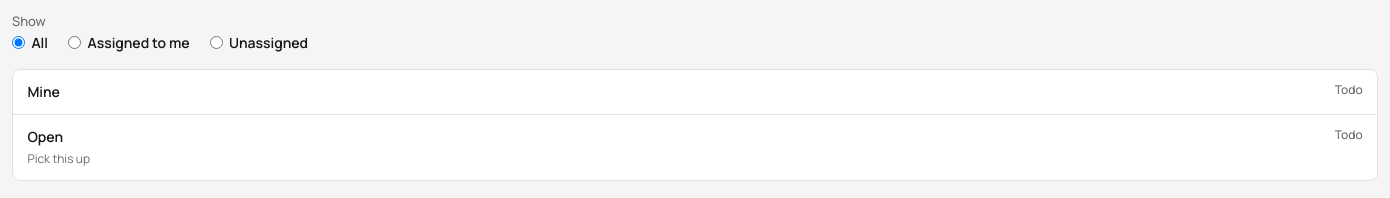
Test: InboxList › filters to unassigned tasks
Click the radio button labelled "Unassigned" at (216, 42), box [210,36,222,48]
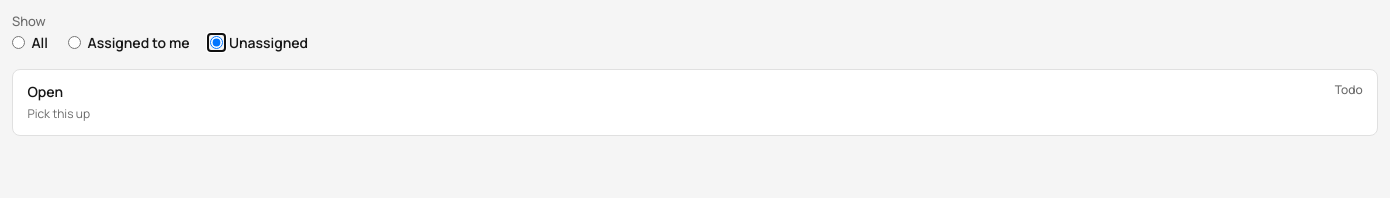
Expected: the button "Open Pick this up Todo" is shown, [13,70,1377,135]
Result: the button "Mine" is gone
